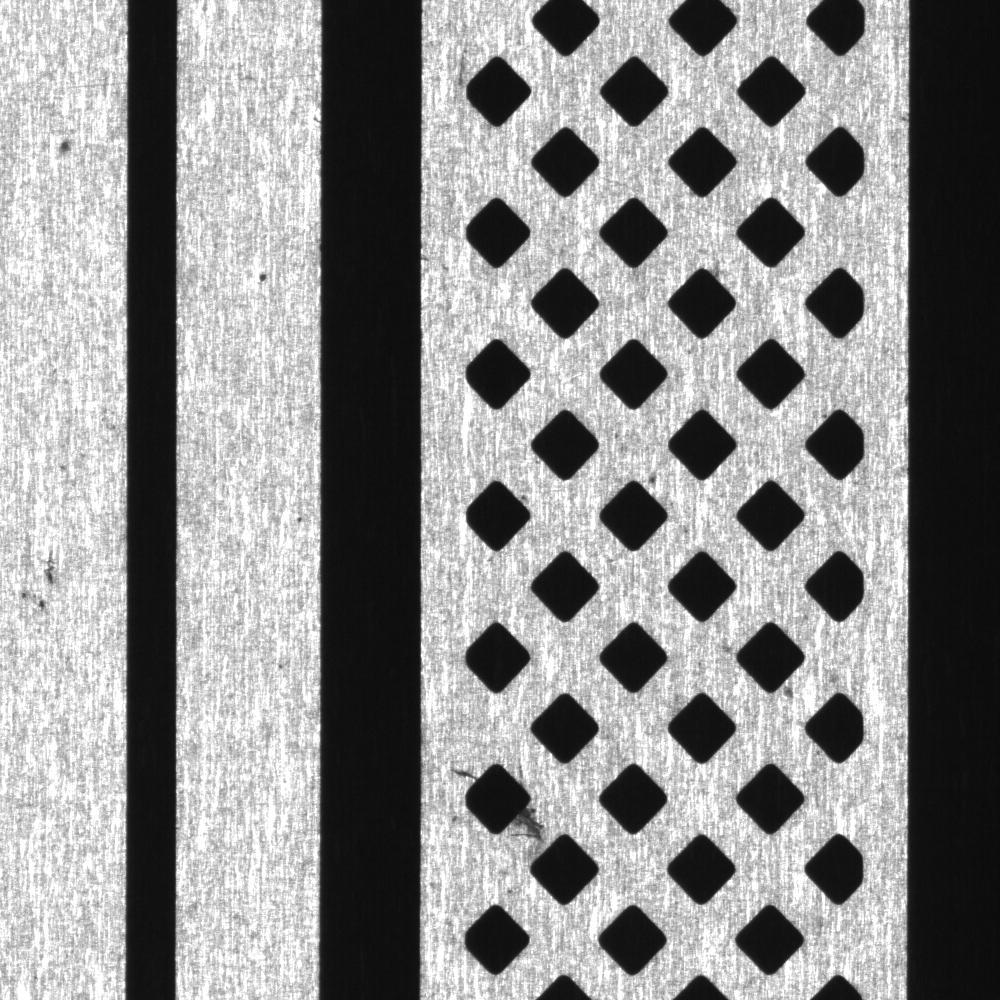Etching: (7, 544, 71, 625), (512, 805, 550, 852), (40, 129, 82, 167)
Pinhole: (249, 261, 279, 293), (287, 504, 310, 540), (268, 651, 292, 679)
Scar: (197, 58, 320, 105), (45, 73, 133, 102)
